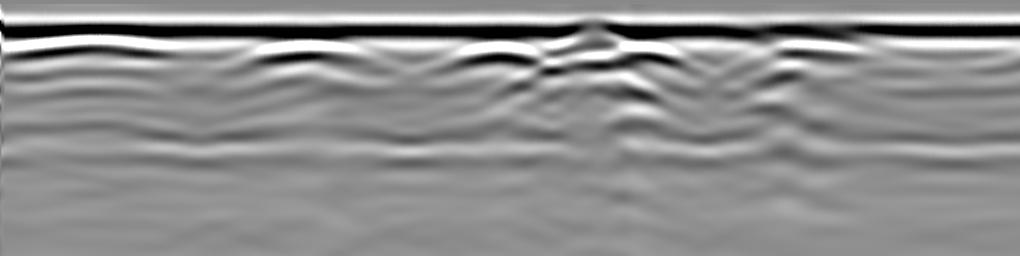pipe: (539, 21, 646, 52)
steel: (3, 39, 175, 60), (238, 40, 376, 65), (436, 39, 541, 65), (757, 39, 861, 64), (614, 44, 683, 65)
